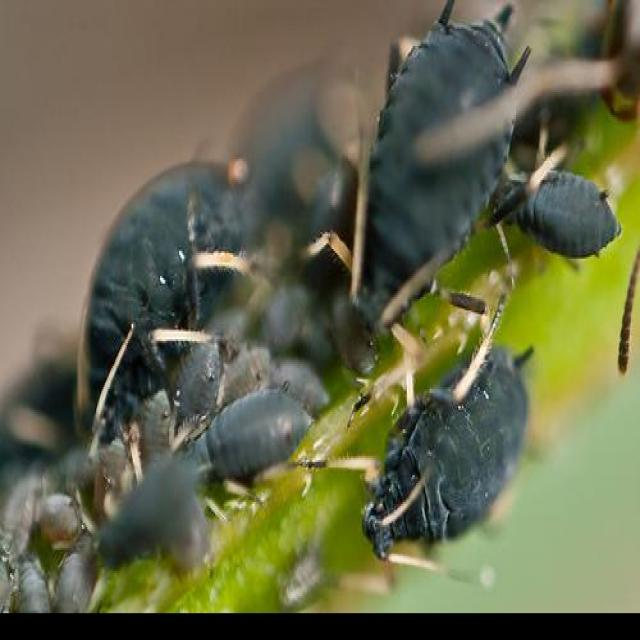Aphids: (45, 90, 257, 431), (325, 299, 553, 584), (160, 356, 319, 512)
